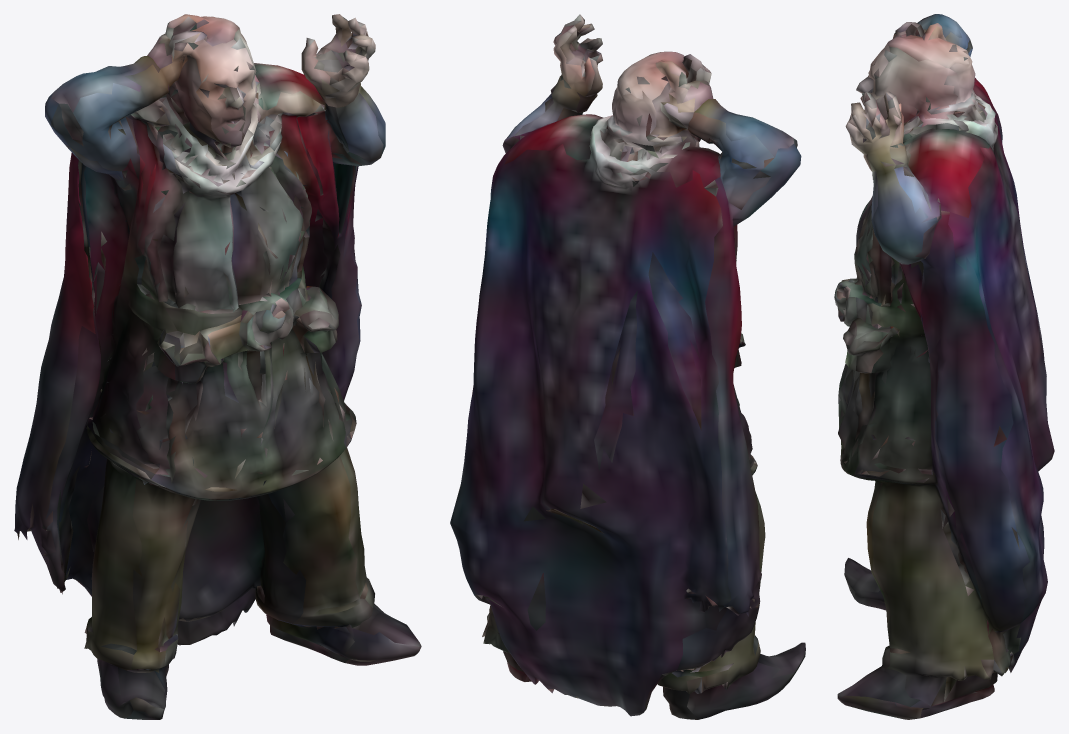
Rendered from Horgus_final.glb.
3 renders of one model, left to right at view 1: azimuth 30°, elevation 25°; view 2: azimuth 150°, elevation 25°; view 3: azimuth 270°, elevation 25°, orthographic. The views are drawn at different scales.
Size of the model in its own units: 1 by 1.91 by 0.6238.
Materials: 1 (1 with a texture image).
